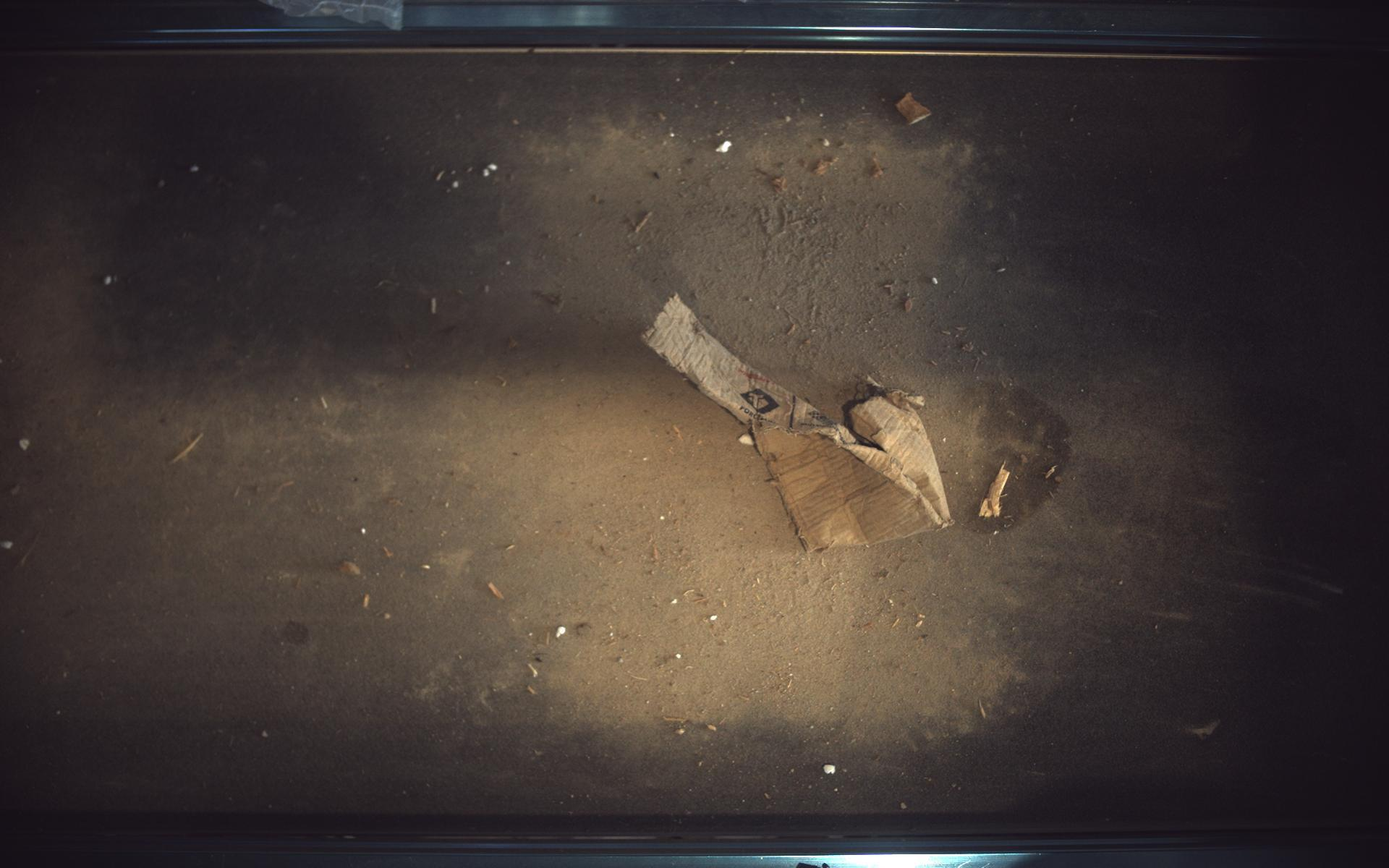general_w: (644, 294, 953, 550)
